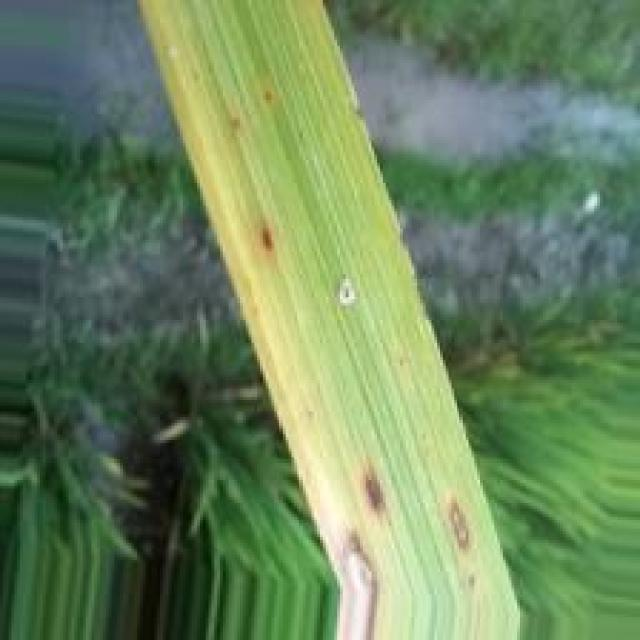Brown_Spot: (333, 521, 377, 640), (440, 489, 475, 553), (355, 462, 391, 517), (253, 219, 279, 256)
